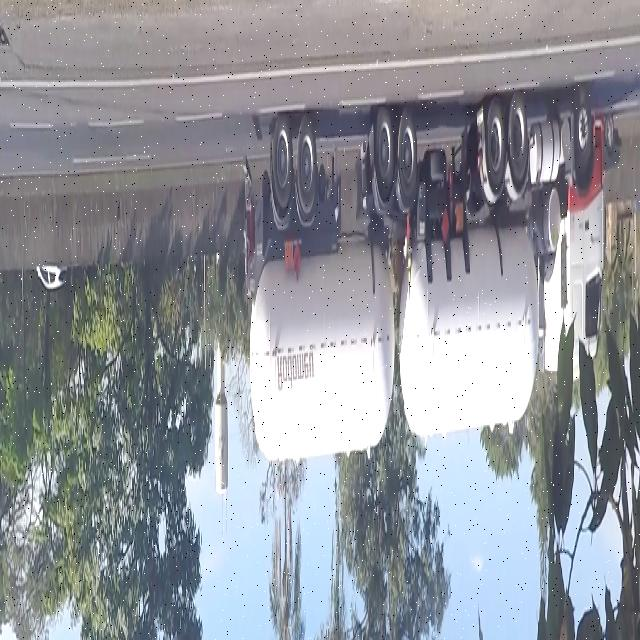-axle: (372, 91, 394, 197), (271, 110, 292, 220), (296, 113, 318, 218), (482, 99, 505, 194), (573, 82, 594, 176), (396, 105, 415, 204), (508, 91, 526, 186)
